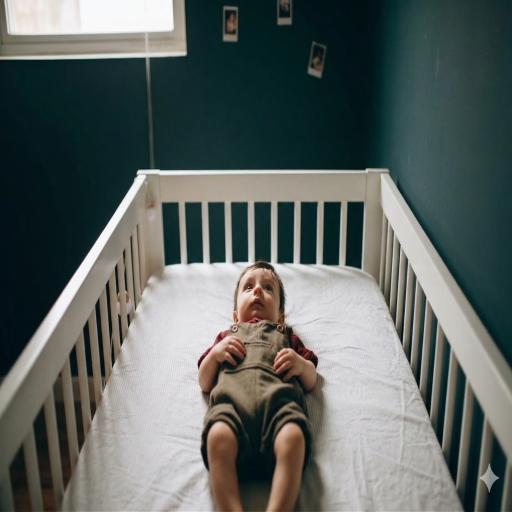baby: (199, 261, 317, 510)
crib: (0, 170, 511, 510)
